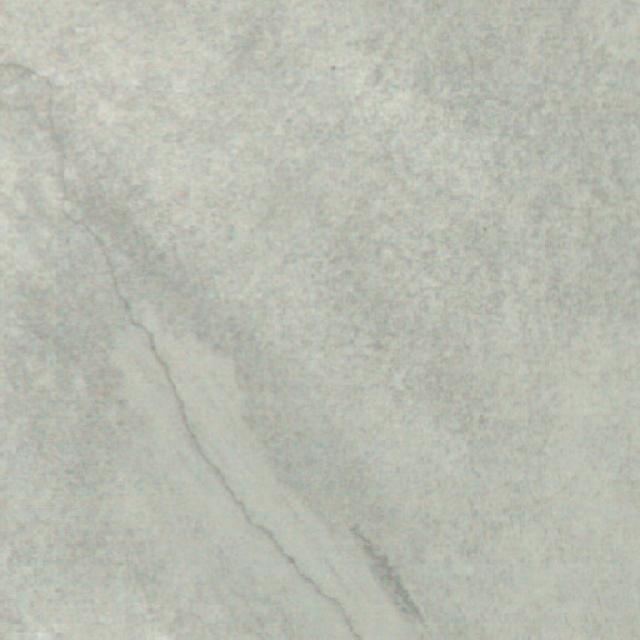Diagonal: (22, 82, 425, 640)
